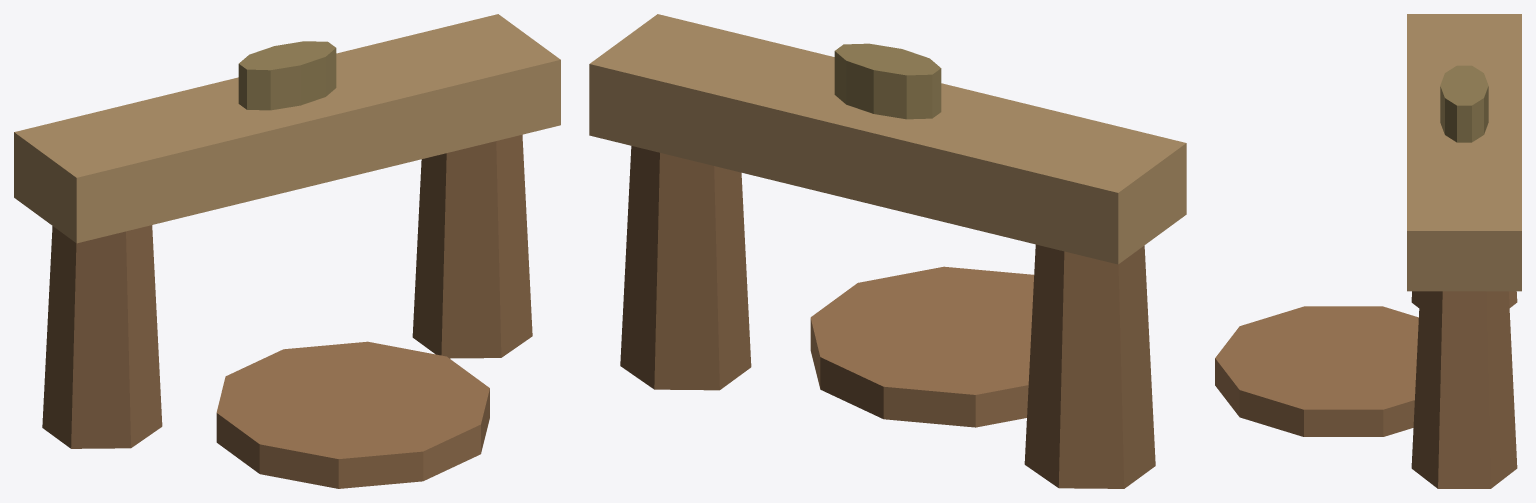
The model's file is desert-landmark.glb.
3 renders of one model, left to right at view 1: azimuth 30°, elevation 25°; view 2: azimuth 150°, elevation 25°; view 3: azimuth 270°, elevation 25°, orthographic. The views are drawn at different scales.
Parts seen in each view (by area): view 1: desert-landmark; view 2: desert-landmark; view 3: desert-landmark.
Part boxes in pixels (bbox=[...]): desert-landmark: bbox=[14, 14, 560, 488]; desert-landmark: bbox=[589, 14, 1186, 488]; desert-landmark: bbox=[1215, 14, 1521, 488].
Bounding box in the file's own units: 3.4 × 2.19 × 2.03.
